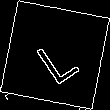L_NW: (28, 25, 82, 85)
